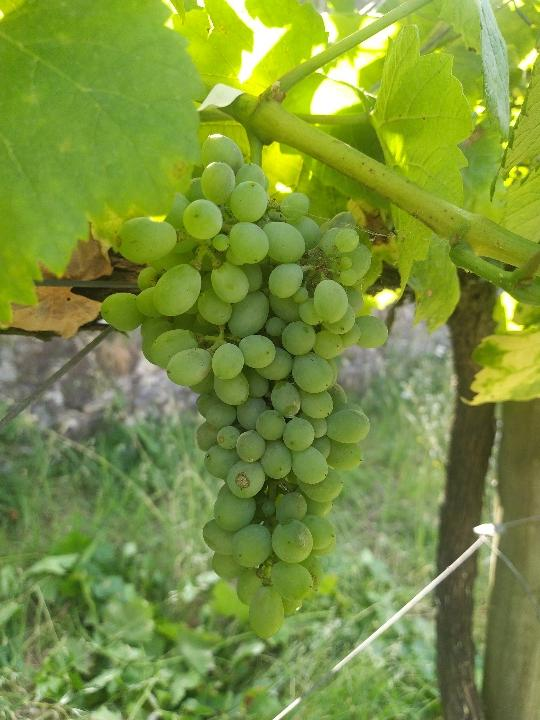grape: (98, 129, 394, 646)
